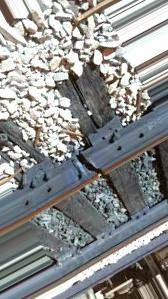tracks_fault: (70, 145, 111, 186), (112, 130, 149, 158), (25, 183, 54, 213)
